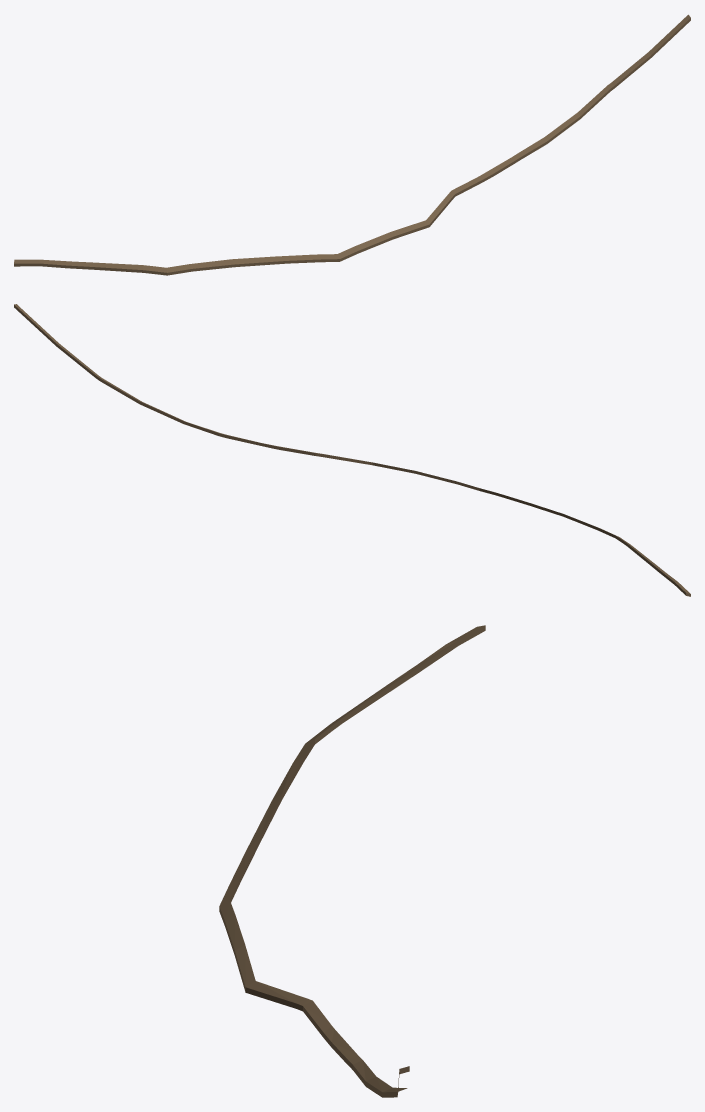
3 views of the same model, one above another, from view 1: azimuth 30°, elevation 25°; view 2: azimuth 150°, elevation 25°; view 3: azimuth 270°, elevation 25° (orthographic). The views are drawn at different scales.
Bounding box in the file's own units: 176 × 29.67 × 30.86.
